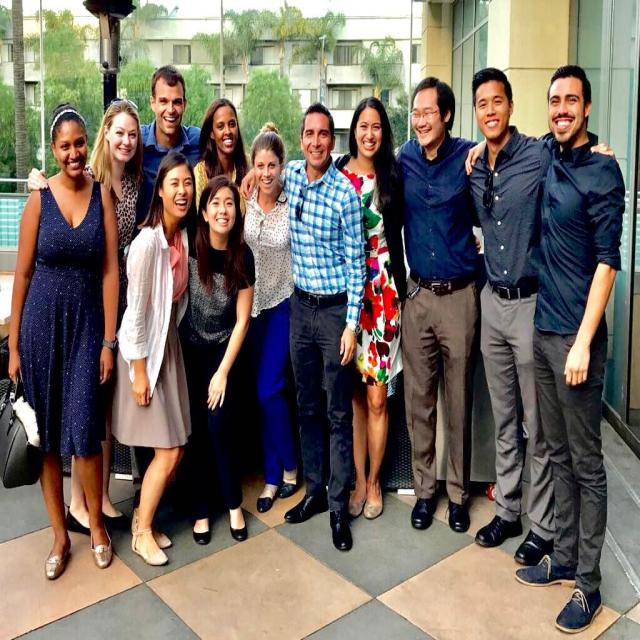body: (393, 65, 623, 570), (332, 96, 482, 521), (514, 65, 625, 637), (236, 100, 370, 556), (0, 97, 124, 582), (26, 95, 146, 542), (388, 75, 480, 536), (108, 147, 203, 572), (176, 175, 256, 548), (243, 120, 305, 513), (133, 65, 206, 230), (191, 95, 257, 219)
